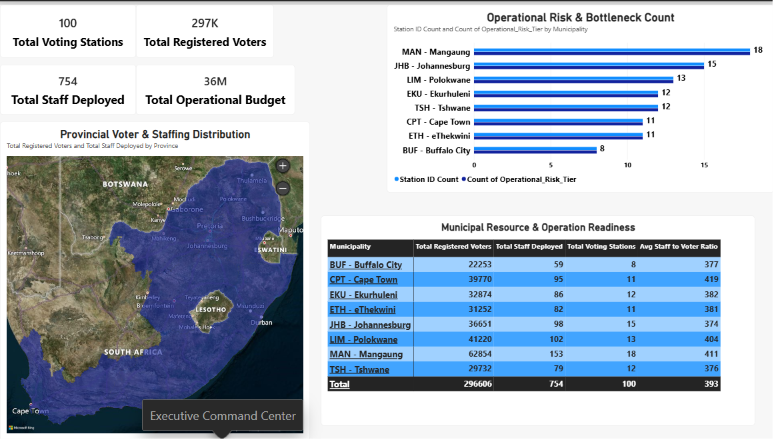

This screenshot's page, from the dashboard's own definition file:
{"tool":"powerbi","page":{"name":"Executive Command Center","canvas":[1920,1080],"ordinal":0},"visuals":[{"type":"card","fields":{"Values":["voting_stations_master.Total Voting Stations"]},"box":[0,0,337.2,131.4],"z":0},{"type":"card","fields":{"Values":["voting_stations_master.Total Staff Deployed"]},"box":[0,148.8,337.2,124],"z":2},{"type":"card","fields":{"Values":["voting_stations_master.Total Operational Budget"]},"box":[337.2,148.8,394.3,124],"z":3},{"type":"card","fields":{"Values":["voting_stations_master.Total Registered Voters"]},"box":[337.2,0,342.2,131.4],"z":4},{"type":"filledMap","title":"Provincial Voter & Staffing Distribution","fields":{"Category":["voting_stations_master.Province"]},"box":[0,290.1,768.7,791],"z":5},{"type":"clusteredBarChart","title":"Operational Risk & Bottleneck Count","fields":{"Category":["df_base.Municipality"],"Y":["voting_stations_master.Station ID Count","CountNonNull(df_base.Operational_Risk_Tier)"]},"box":[959.6,0,959.6,466.2],"z":6},{"type":"pivotTable","title":"Municipal Resource & Operation Readiness","fields":{"Rows":["voting_stations_master.Municipality"],"Values":["voting_stations_master.Total Registered Voters","voting_stations_master.Total Staff Deployed","voting_stations_master.Total Voting Stations","voting_stations_master.Avg Staff to Voter Ratio"]},"box":[795.9,523.2,1076.1,520.7],"z":7}]}

Visuals, with their boxes in screenshot pixels (x1, y1, x2, y2), scaled from the page's 1920x1080 canvas onto the 773x439 screenshot:
card - voting_stations_master.Total Voting Stations: l=0, t=0, r=136, b=53
card - voting_stations_master.Total Staff Deployed: l=0, t=60, r=136, b=111
card - voting_stations_master.Total Operational Budget: l=136, t=60, r=295, b=111
card - voting_stations_master.Total Registered Voters: l=136, t=0, r=274, b=53
"Provincial Voter & Staffing Distribution" filledMap: l=0, t=118, r=309, b=438
"Operational Risk & Bottleneck Count" clusteredBarChart: l=386, t=0, r=772, b=190
"Municipal Resource & Operation Readiness" pivotTable: l=320, t=213, r=754, b=424
